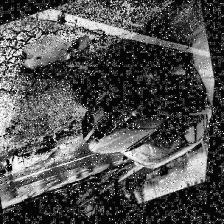pothole: (12, 17, 106, 92)
